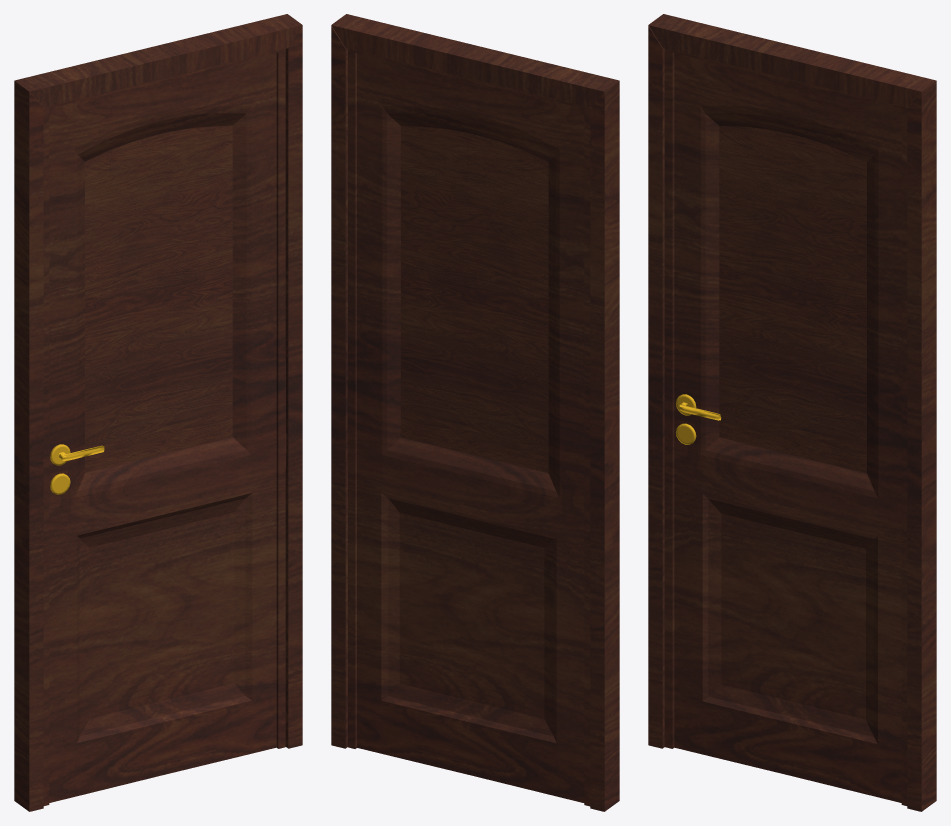
The model's file is PUERTA6_AMERICA.glb.
3 views of the same model, side by side, from view 1: azimuth 30°, elevation 25°; view 2: azimuth 150°, elevation 25°; view 3: azimuth 330°, elevation 25° (orthographic).
Visible parts, largest first — view 1: Puerta6_AMERICA, Puerta6_Marco, Puerta6_Cerradura; view 2: Puerta6_AMERICA, Puerta6_Marco; view 3: Puerta6_AMERICA, Puerta6_Marco, Puerta6_Cerradura.
Boxes of the visible parts, x1,y1,x2,y2 form: Puerta6_AMERICA: [43, 49, 286, 805]; Puerta6_Marco: [14, 14, 302, 811]; Puerta6_Cerradura: [50, 444, 104, 494]; Puerta6_AMERICA: [347, 49, 590, 806]; Puerta6_Marco: [331, 14, 619, 811]; Puerta6_AMERICA: [664, 49, 907, 805]; Puerta6_Marco: [648, 14, 936, 811]; Puerta6_Cerradura: [675, 394, 721, 444].
Bounding box in the file's own units: 769 × 1936 × 85.
4 materials, 3 textured.
